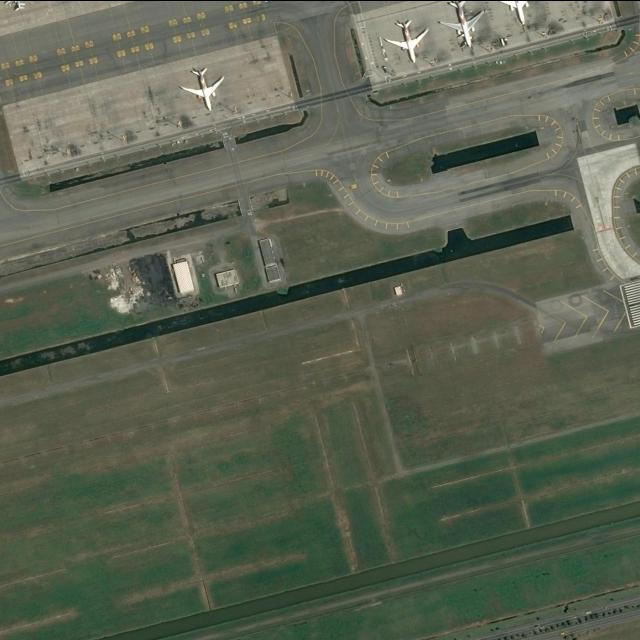Aircraft: (177, 59, 228, 110), (436, 0, 486, 49), (380, 15, 431, 63), (490, 0, 540, 26), (2, 0, 28, 14)
